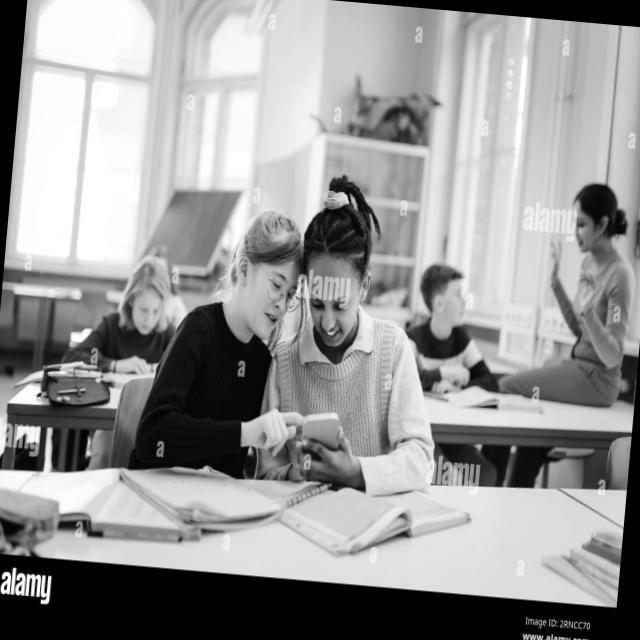phone: (298, 409, 342, 460)
